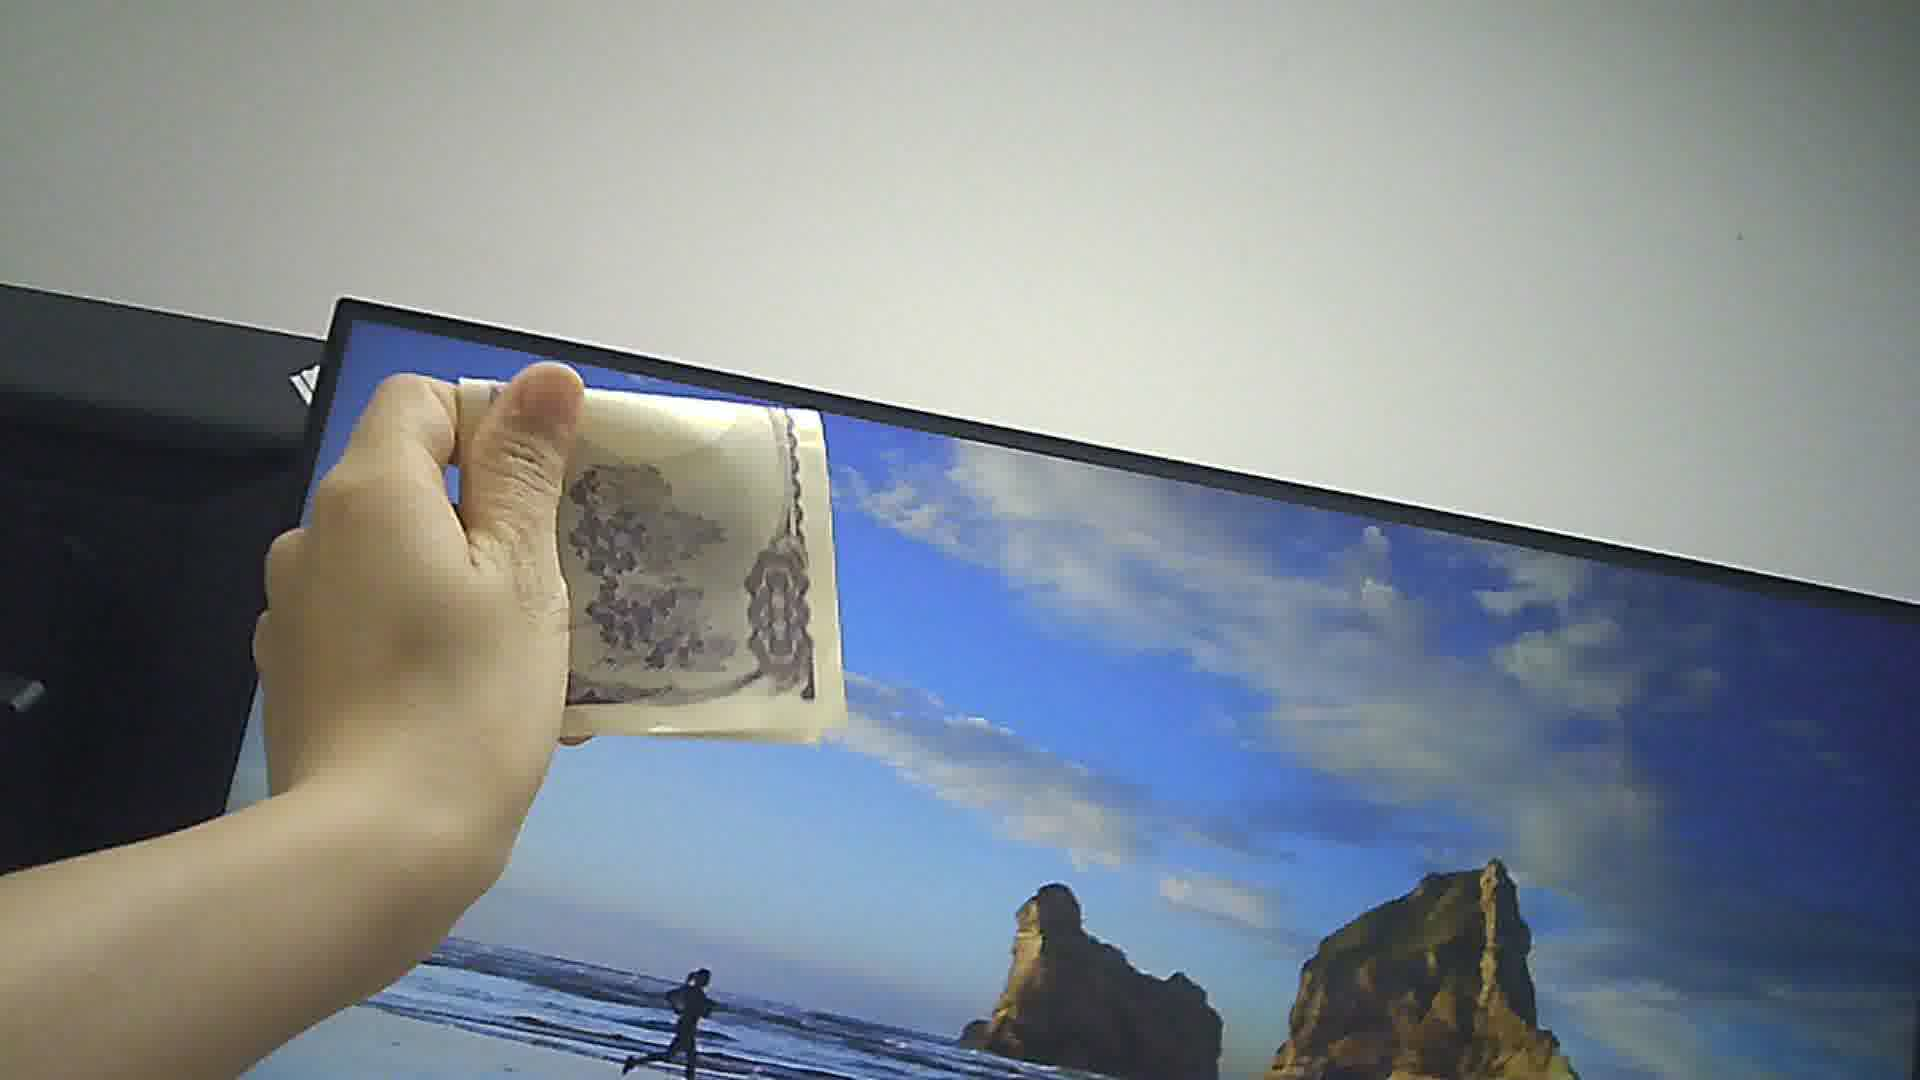5,000 Yen: (447, 349, 873, 765)
